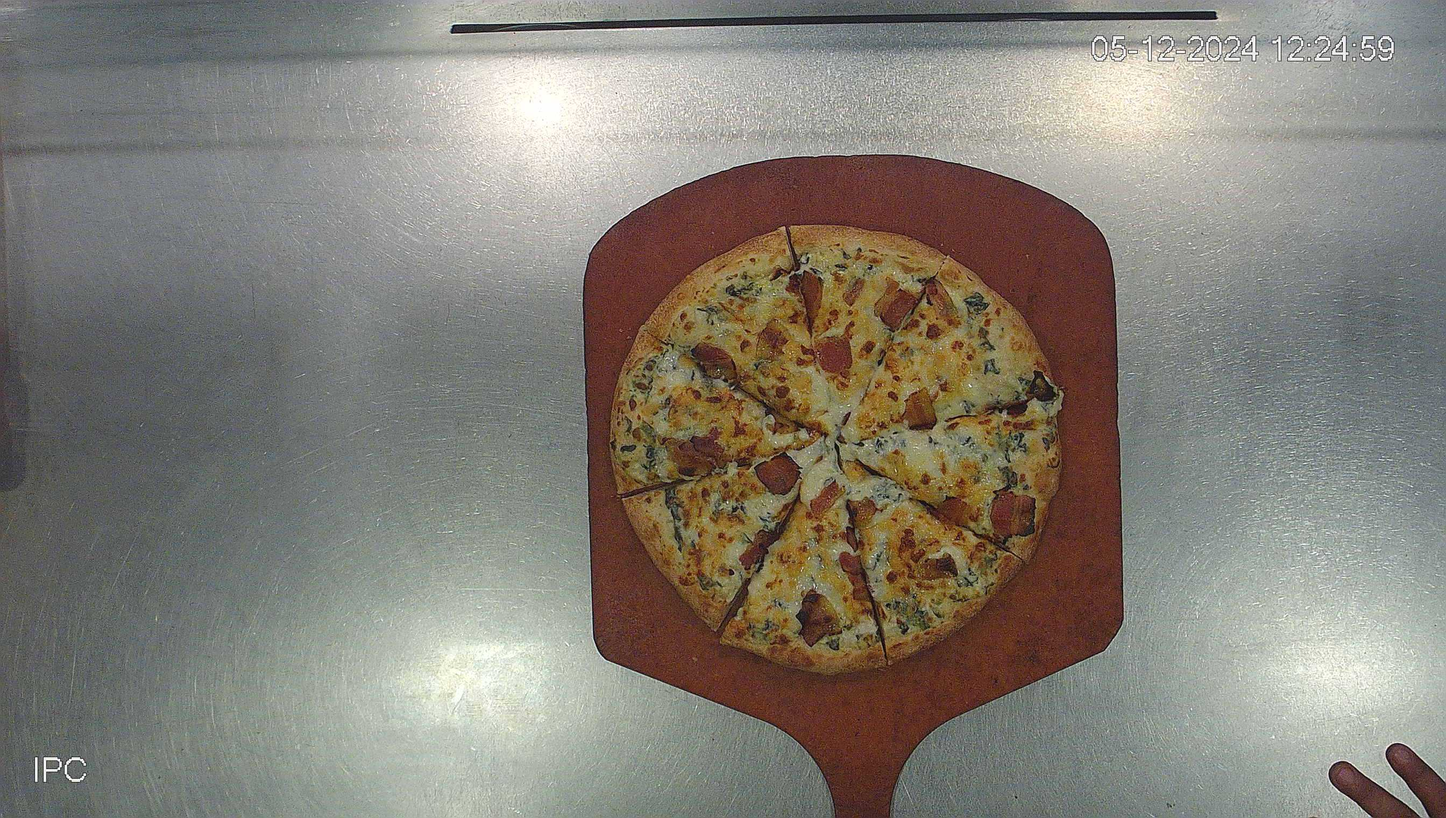pepporoni: (604, 222, 1065, 680)
